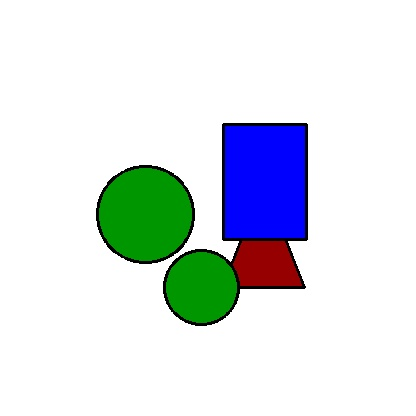circle: (97, 156, 194, 272), (164, 236, 238, 338)
rectangle: (223, 124, 306, 239)
triangle: (222, 183, 304, 287)
